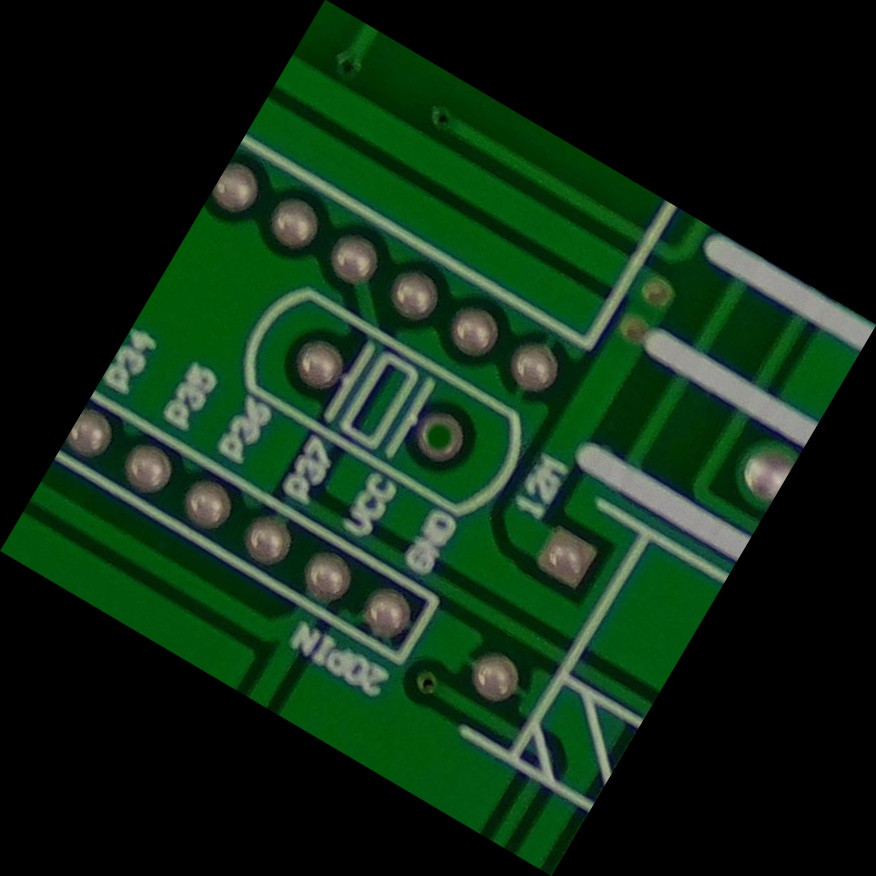missing_hole: (391, 391, 485, 485)
